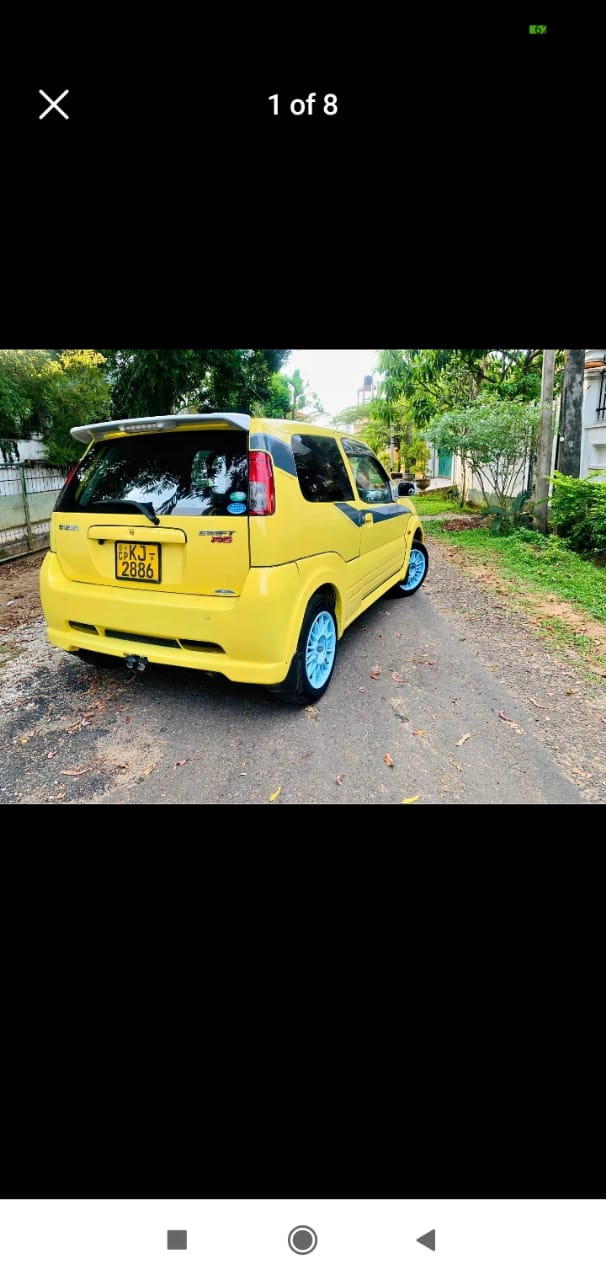number_plate: (112, 541, 166, 587)
